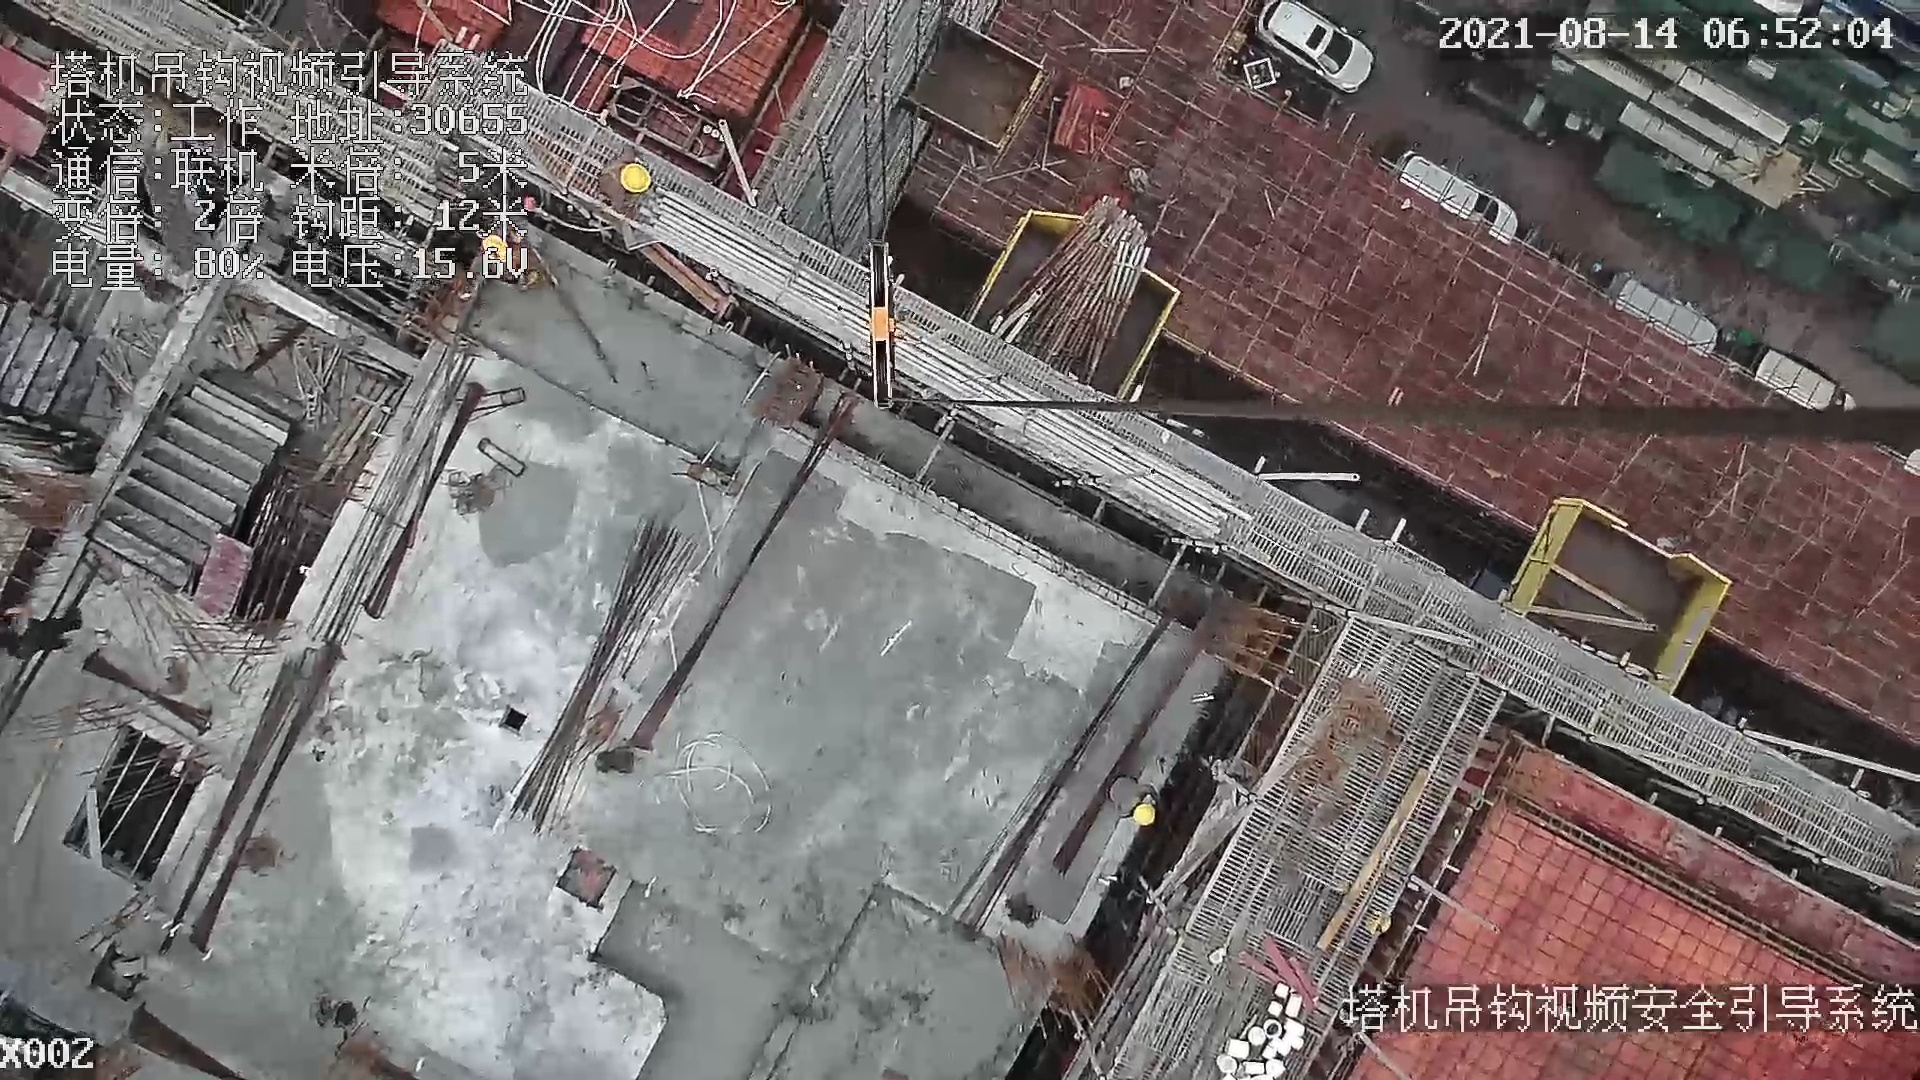helmet: (620, 163, 651, 191), (1130, 804, 1155, 826)
hook: (859, 241, 897, 415)
person: (595, 158, 660, 224), (4, 606, 83, 660), (1104, 767, 1163, 824)
rebar: (633, 188, 1253, 538), (509, 517, 698, 838)
scaffold: (990, 193, 1151, 385)
